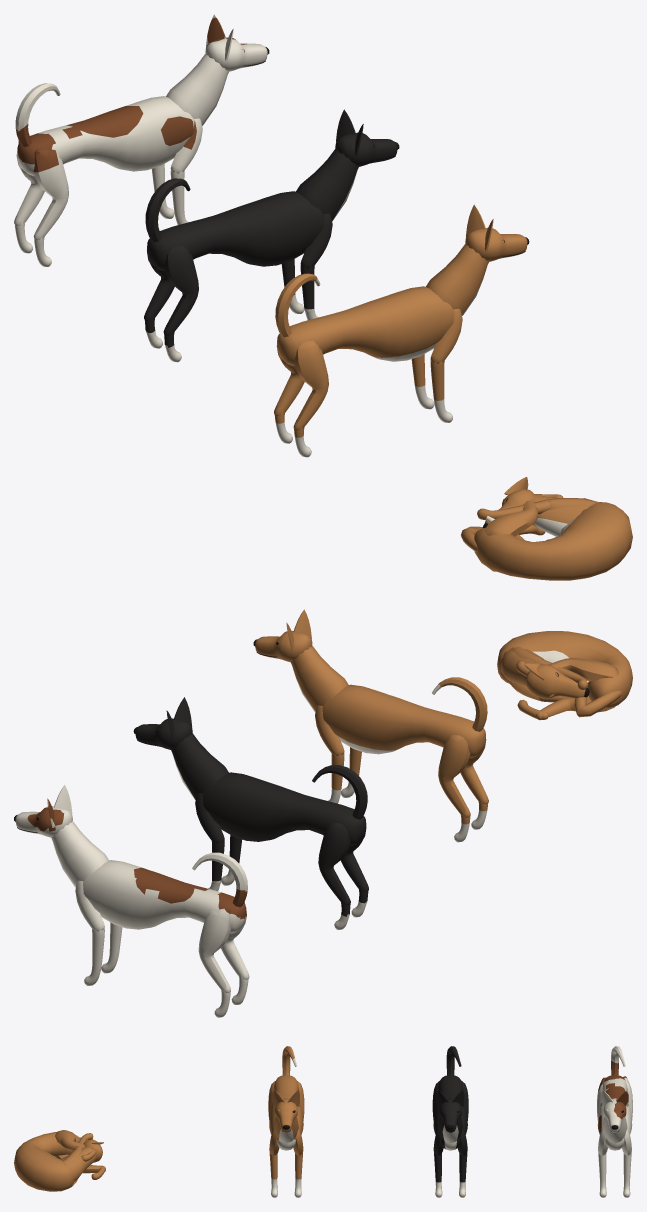
Rendered from dogs.glb.
3 views of the same model, one above another, from view 1: azimuth 30°, elevation 25°; view 2: azimuth 150°, elevation 25°; view 3: azimuth 270°, elevation 25° (orthographic). The views are drawn at different scales.
Parts seen in each view (by area): view 1: dog_sleep__dog_tan, body.001, body, body.002, head__dog_tan, head.001__dog_black, head.002__dog_white, limb_upper.011, limb_upper.003, limb_upper.007, tail_fur.002, tail_fur (+2 smaller); view 2: dog_sleep__dog_tan, body.001, body, body.002, head__dog_tan, head.001__dog_black, head.002__dog_white, limb_upper.009, limb_upper.005, limb_upper.001, tail_fur, tail_fur.001 (+8 smaller); view 3: dog_sleep__dog_tan, head.001__dog_black, head__dog_tan, head.002__dog_white, body.001, body, body.002, limb_lower.004, limb_lower.002, limb_lower.008, limb_lower.010, limb_lower (+4 smaller).
Boxes of the visible parts, x1=… form: dog_sleep__dog_tan: x1=461, y1=477, x2=632, y2=580; body.001: x1=147, y1=191, x2=324, y2=270; body: x1=277, y1=286, x2=454, y2=365; body.002: x1=17, y1=96, x2=194, y2=175; head__dog_tan: x1=426, y1=204, x2=527, y2=315; head.001__dog_black: x1=296, y1=109, x2=397, y2=220; head.002__dog_white: x1=166, y1=29, x2=267, y2=125; limb_upper.011: x1=33, y1=148, x2=68, y2=240; limb_upper.003: x1=293, y1=341, x2=328, y2=430; limb_upper.007: x1=163, y1=246, x2=198, y2=335; tail_fur.002: x1=15, y1=83, x2=60, y2=147; tail_fur: x1=275, y1=273, x2=320, y2=337; dog_sleep__dog_tan: x1=497, y1=631, x2=632, y2=720; body.001: x1=202, y1=772, x2=366, y2=845; body: x1=322, y1=684, x2=485, y2=758; body.002: x1=83, y1=860, x2=246, y2=933; head__dog_tan: x1=255, y1=609, x2=348, y2=712; head.001__dog_black: x1=135, y1=697, x2=228, y2=799; head.002__dog_white: x1=15, y1=785, x2=109, y2=887; limb_upper.009: x1=198, y1=908, x2=230, y2=992; limb_upper.005: x1=318, y1=822, x2=350, y2=905; limb_upper.001: x1=438, y1=735, x2=470, y2=817; tail_fur: x1=432, y1=677, x2=487, y2=731; tail_fur.001: x1=312, y1=765, x2=367, y2=819; dog_sleep__dog_tan: x1=14, y1=1130, x2=105, y2=1191; head.001__dog_black: x1=437, y1=1089, x2=464, y2=1143; head__dog_tan: x1=272, y1=1089, x2=299, y2=1143; head.002__dog_white: x1=601, y1=1090, x2=627, y2=1143; body.001: x1=433, y1=1075, x2=467, y2=1150; body: x1=269, y1=1075, x2=303, y2=1150; body.002: x1=597, y1=1075, x2=632, y2=1150; limb_lower.004: x1=459, y1=1153, x2=467, y2=1197; limb_lower.002: x1=269, y1=1152, x2=277, y2=1197; limb_lower.008: x1=623, y1=1153, x2=631, y2=1197; limb_lower.010: x1=598, y1=1153, x2=606, y2=1197; limb_lower: x1=294, y1=1153, x2=302, y2=1197.
Bounding box in the file's own units: 0.4468 × 0.3284 × 1.51.
